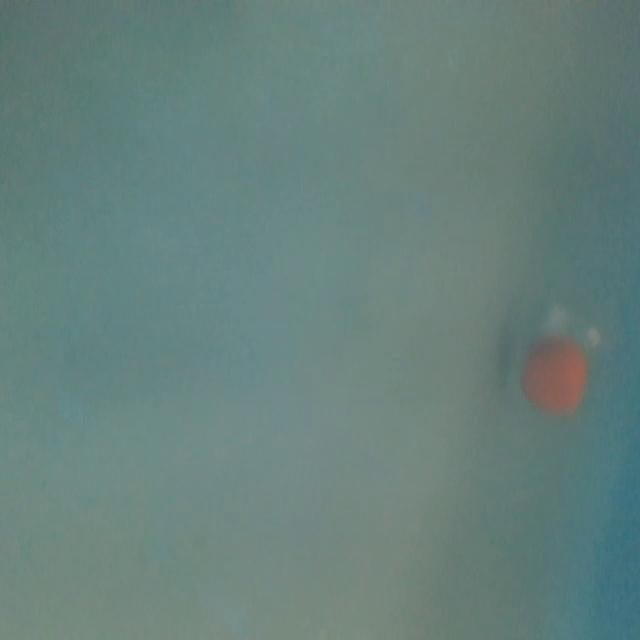plastic bottle: (499, 165, 630, 424)
